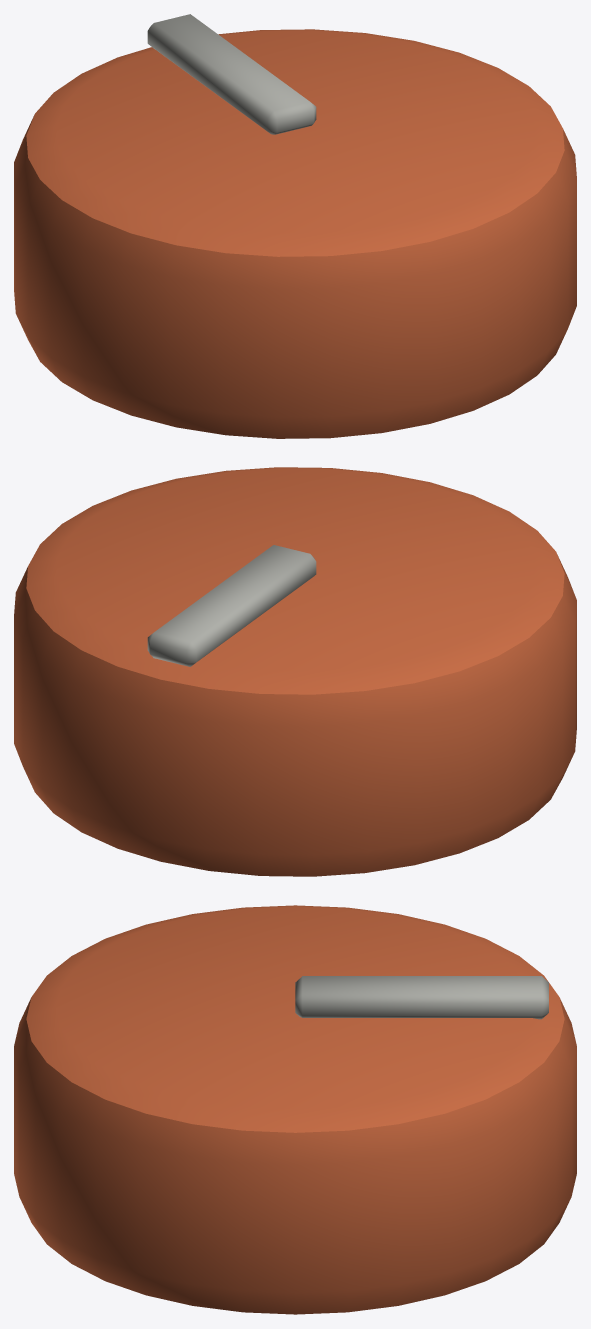
File: welding_helmet_ratchet_knob.glb
3 renders of one model, top to bottom at view 1: azimuth 30°, elevation 25°; view 2: azimuth 150°, elevation 25°; view 3: azimuth 270°, elevation 25°, orthographic.
Visible parts, largest first — view 1: welding_helmet_ratchet_knob; view 2: welding_helmet_ratchet_knob; view 3: welding_helmet_ratchet_knob.
Part boxes in pixels (left/top/right/bottom): welding_helmet_ratchet_knob: left=14, top=14, right=576, bottom=438; welding_helmet_ratchet_knob: left=14, top=467, right=576, bottom=876; welding_helmet_ratchet_knob: left=14, top=905, right=576, bottom=1314.
Size of the model in its own units: 0.04 by 0.0178 by 0.04.
